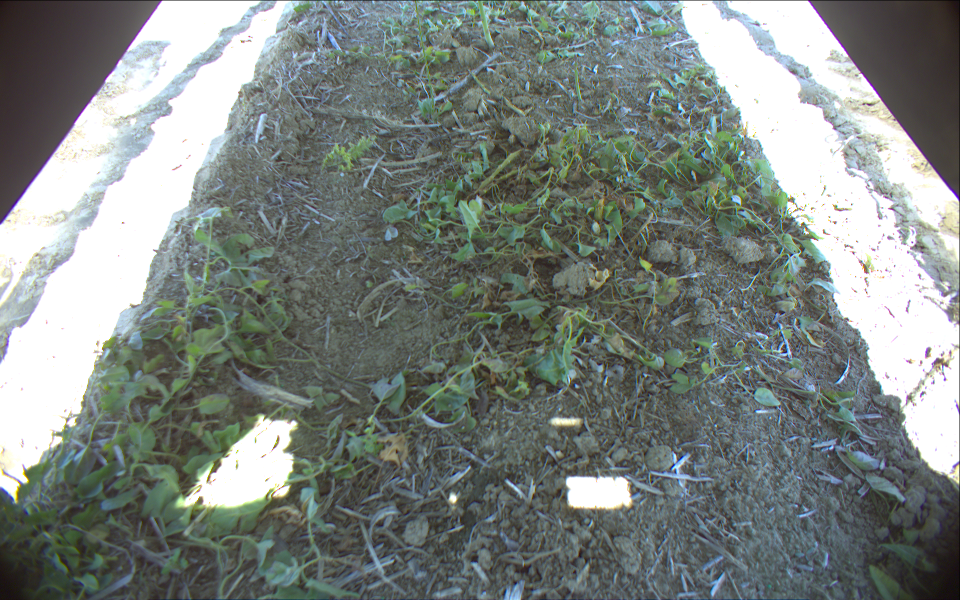aspa: (468, 1, 500, 52)
